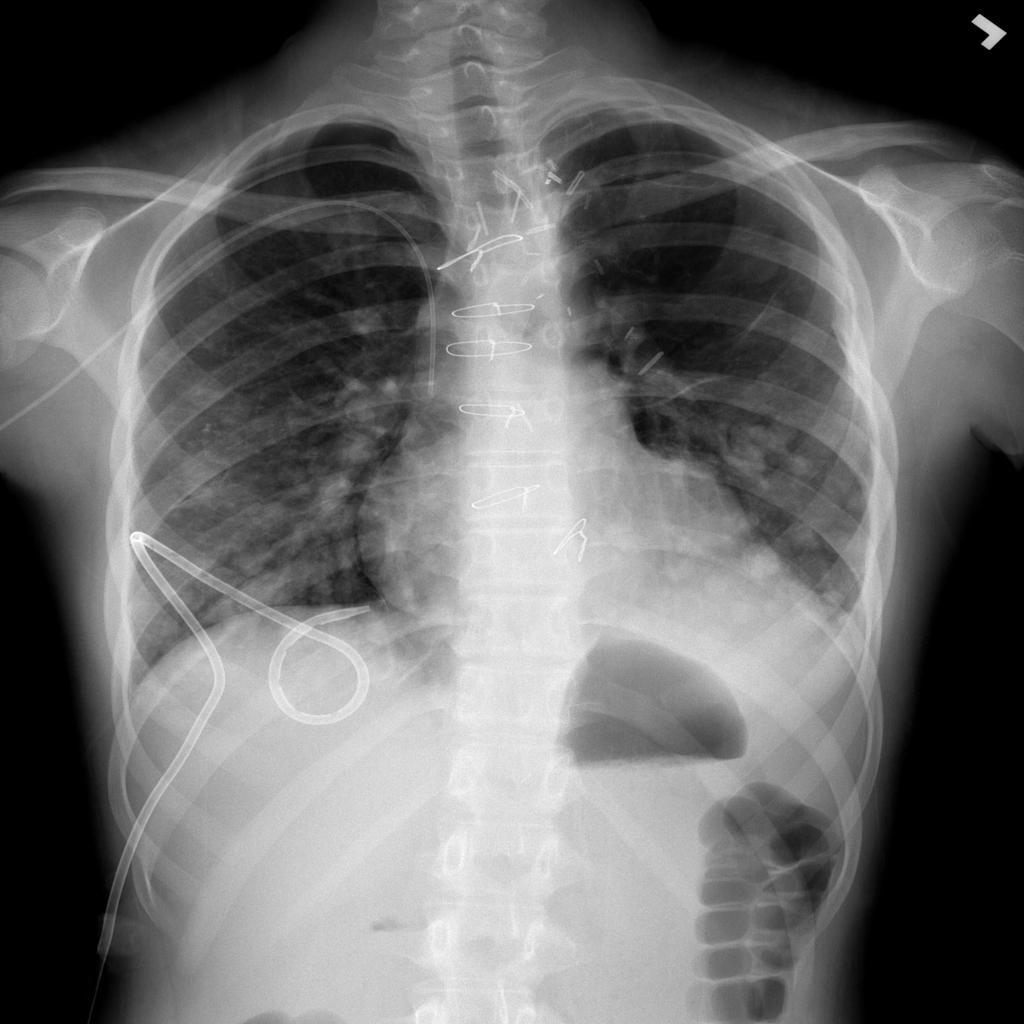nodule: (732, 528, 789, 578)
